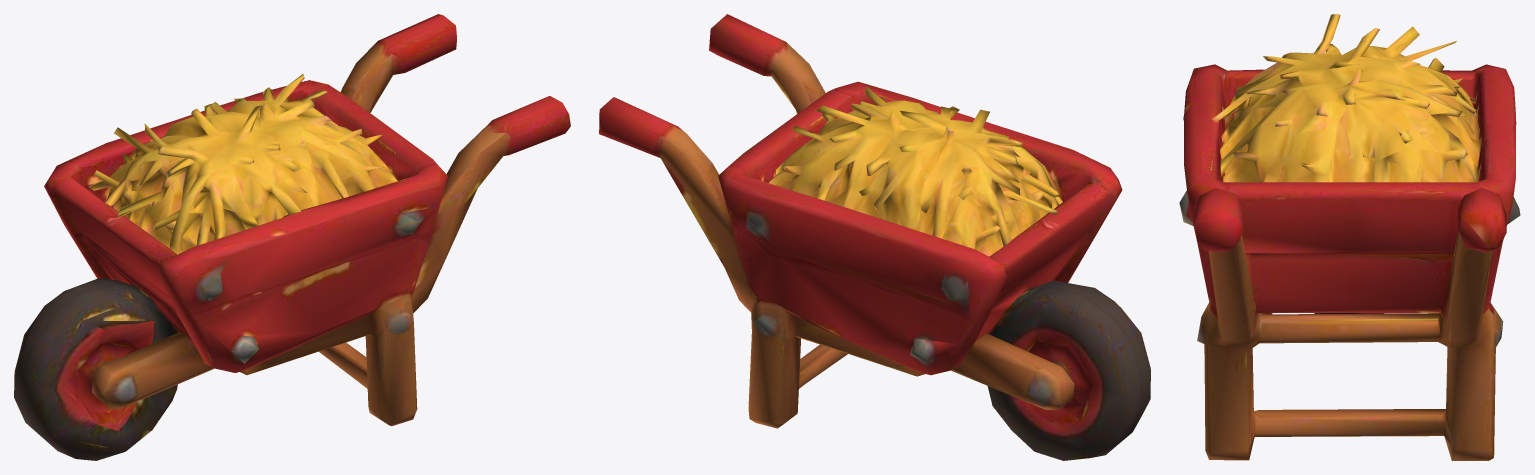
3 renders of one model, left to right at view 1: azimuth 30°, elevation 25°; view 2: azimuth 150°, elevation 25°; view 3: azimuth 270°, elevation 25°, orthographic. The views are drawn at different scales.
Visible parts, largest first — view 1: wheelbarrow; view 2: wheelbarrow; view 3: wheelbarrow.
Part boxes in pixels (<box>): wheelbarrow: <box>14,14,570,460</box>; wheelbarrow: <box>599,14,1150,460</box>; wheelbarrow: <box>1179,14,1520,460</box>.
Size of the model in its own units: 1.2 by 0.7321 by 0.6206.
1 material, 1 textured.
